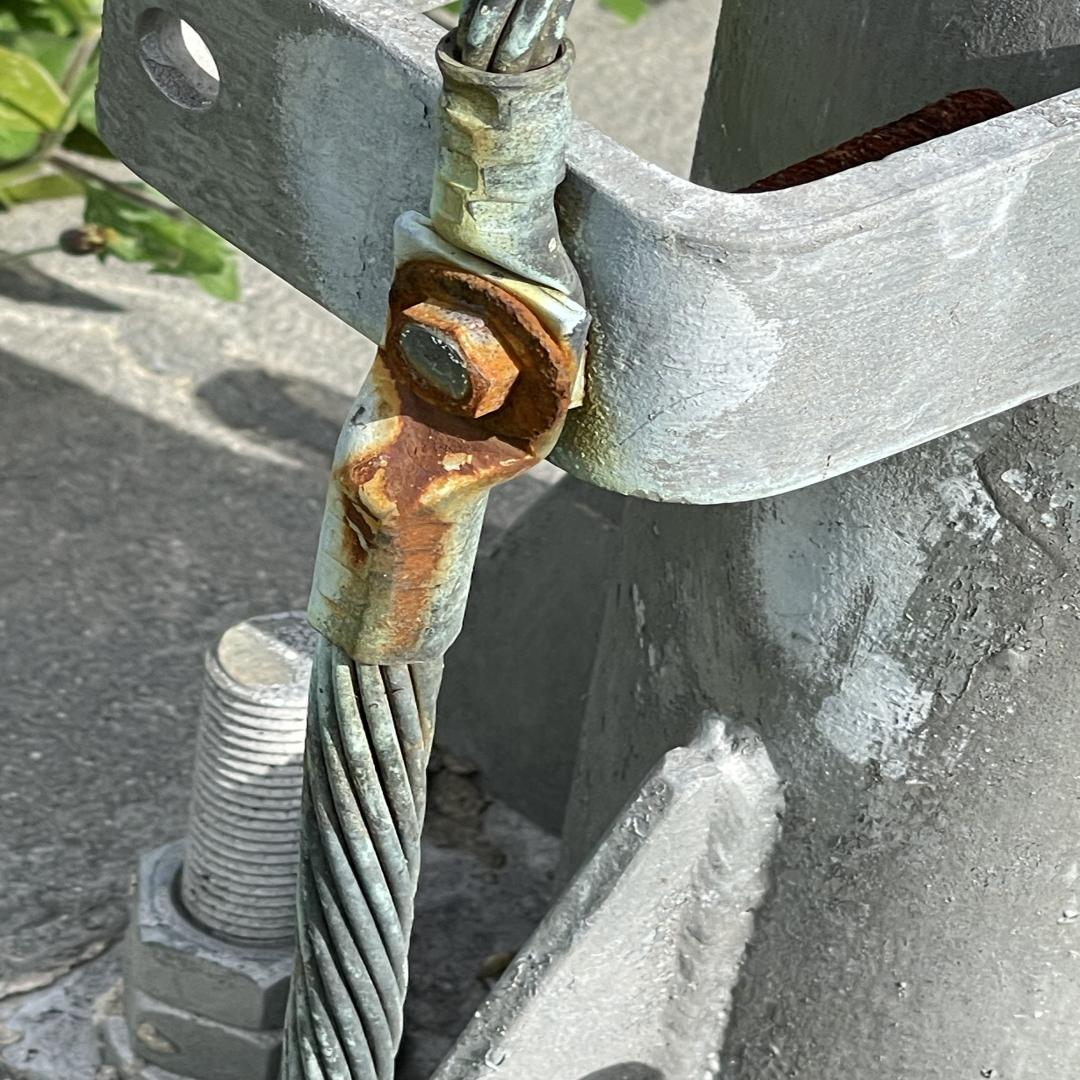Metal: (95, 0, 1080, 1080)
Metal corroido: (334, 261, 576, 665), (734, 88, 1016, 193)
